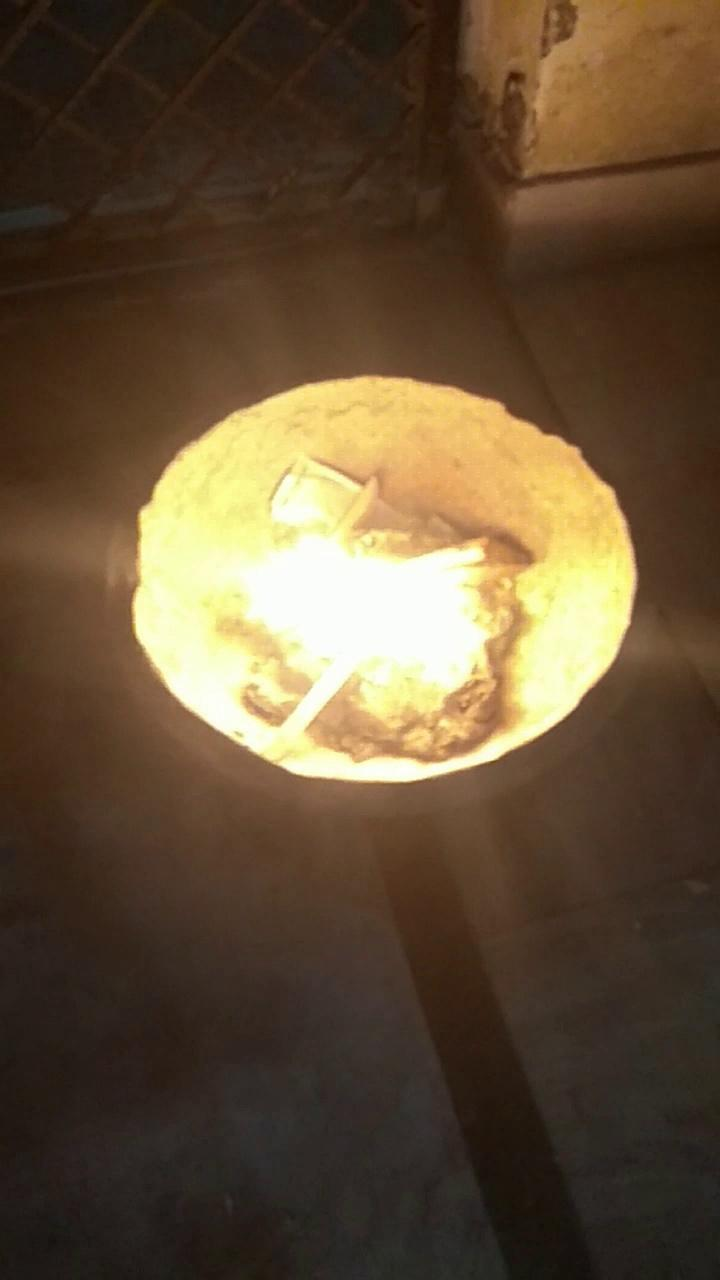fire: (170, 428, 536, 774)
